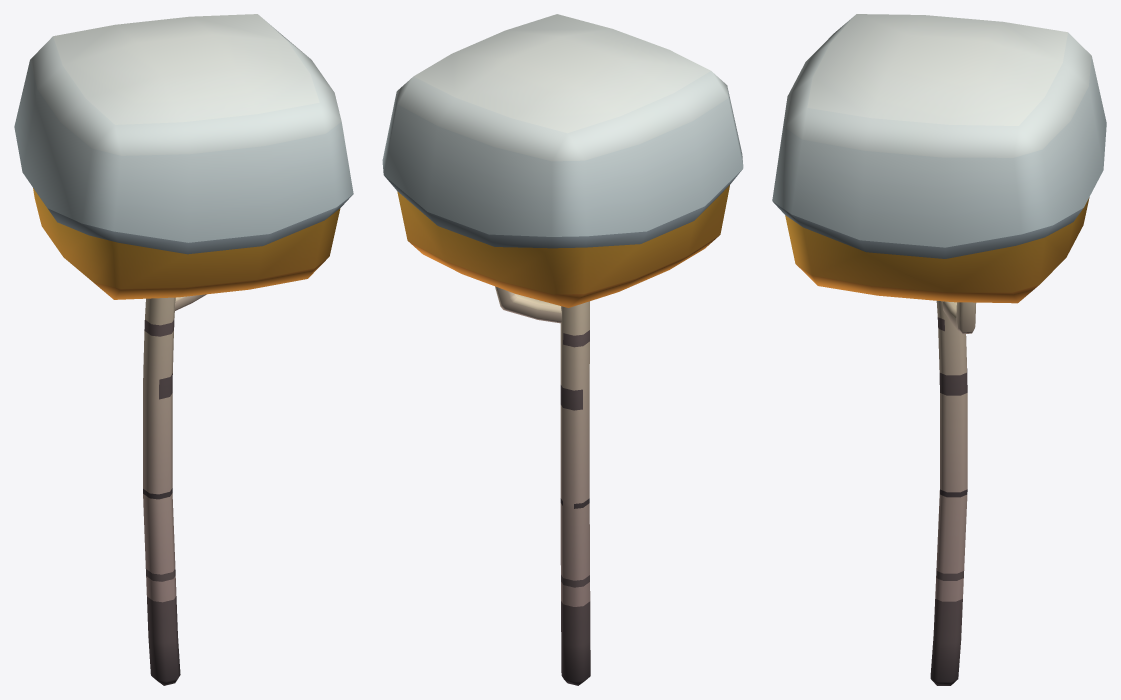
File: birch_tree_col2_08_snow.fbx
3 views of the same model, side by side, from view 1: azimuth 30°, elevation 25°; view 2: azimuth 150°, elevation 25°; view 3: azimuth 270°, elevation 25° (orthographic). The views are drawn at different scales.
Visible parts, largest first — view 1: birch_tree_col2_08_snow; view 2: birch_tree_col2_08_snow; view 3: birch_tree_col2_08_snow.
Boxes of the visible parts, <box> form: birch_tree_col2_08_snow: <box>14,14,353,685</box>; birch_tree_col2_08_snow: <box>382,14,743,685</box>; birch_tree_col2_08_snow: <box>772,14,1106,685</box>.
Size of the model in its own units: 296 by 621 by 295.
1 material, 1 textured.
